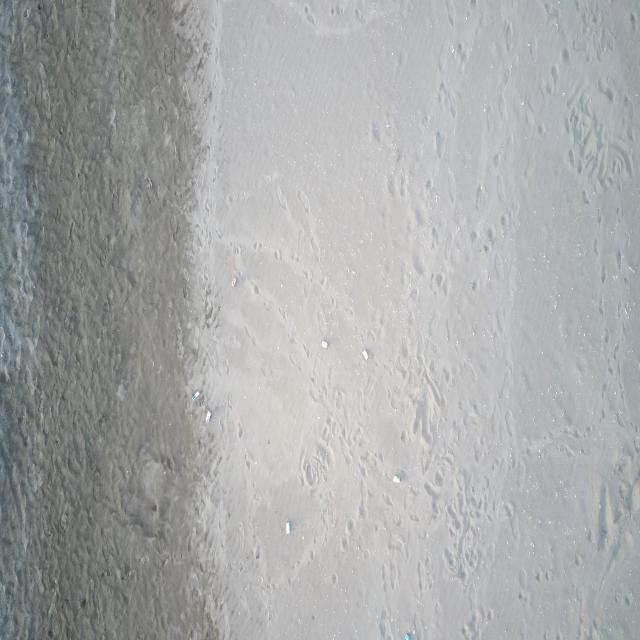tin-and-aluminum-cans: (285, 518, 292, 535), (205, 409, 213, 423), (191, 390, 200, 401), (362, 348, 369, 361), (230, 276, 237, 289), (392, 475, 401, 484), (320, 339, 328, 349), (404, 633, 413, 640)
